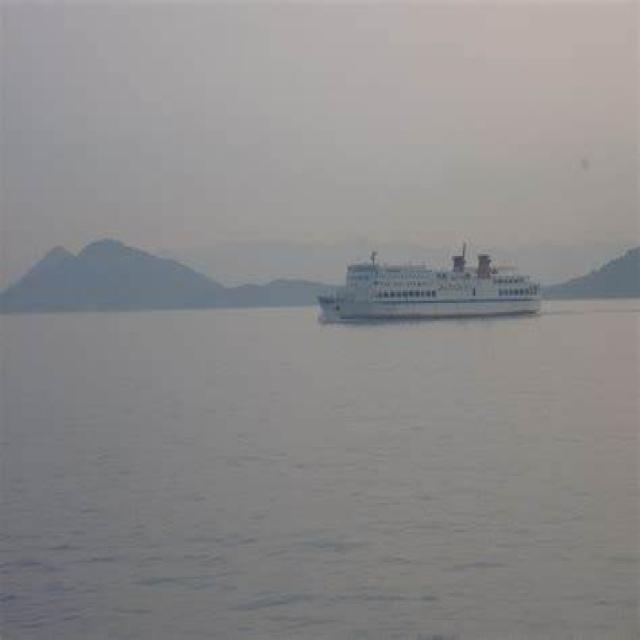houseboat: (306, 234, 539, 330)
